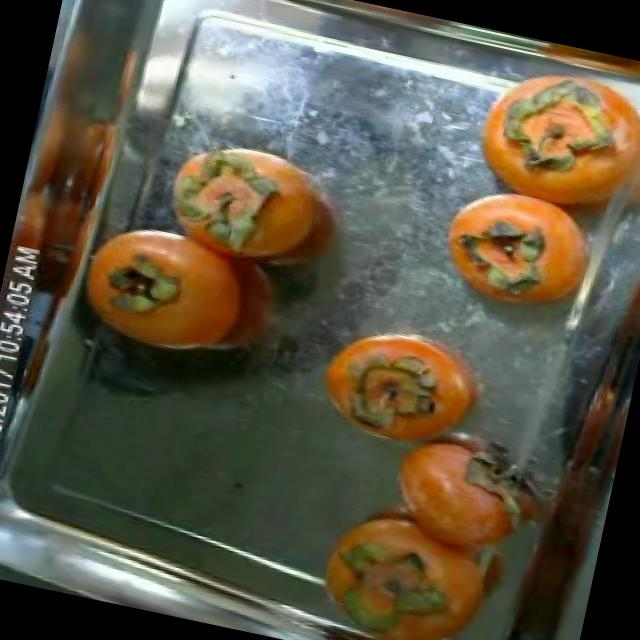Fruit: (56, 207, 274, 382), (296, 306, 464, 462), (422, 168, 566, 316)
